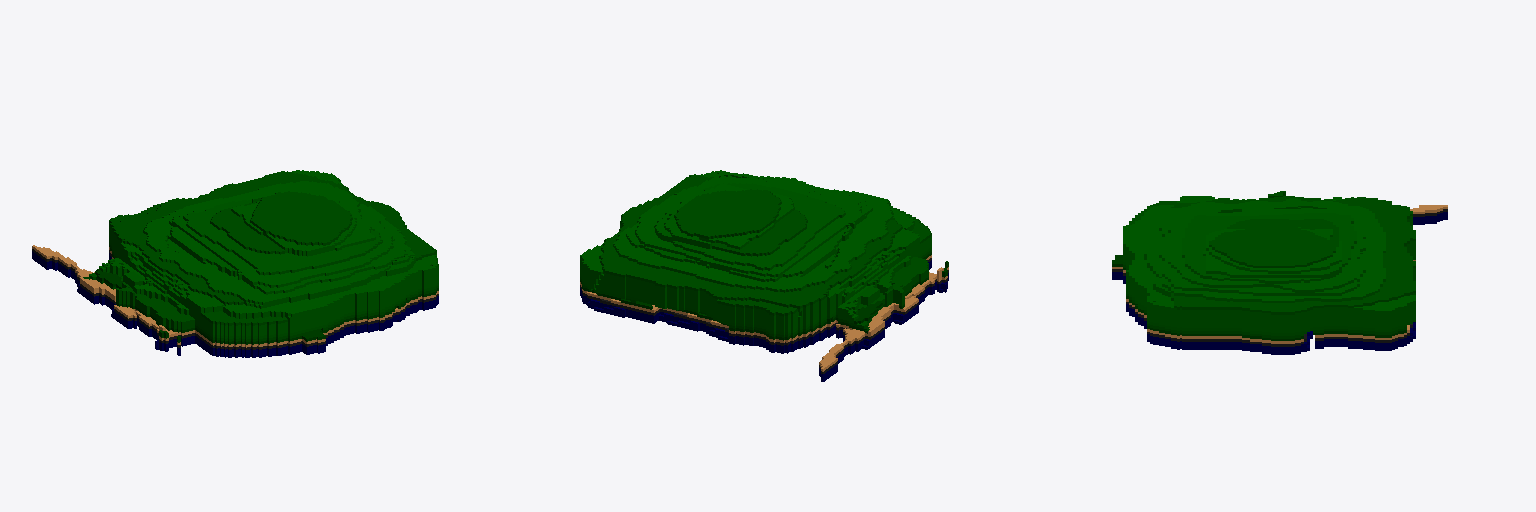
3 renders of one model, left to right at view 1: azimuth 30°, elevation 25°; view 2: azimuth 150°, elevation 25°; view 3: azimuth 270°, elevation 25°, orthographic.
Size of the model in its own units: 109 by 23 by 114.
Materials: 1 (1 with a texture image).